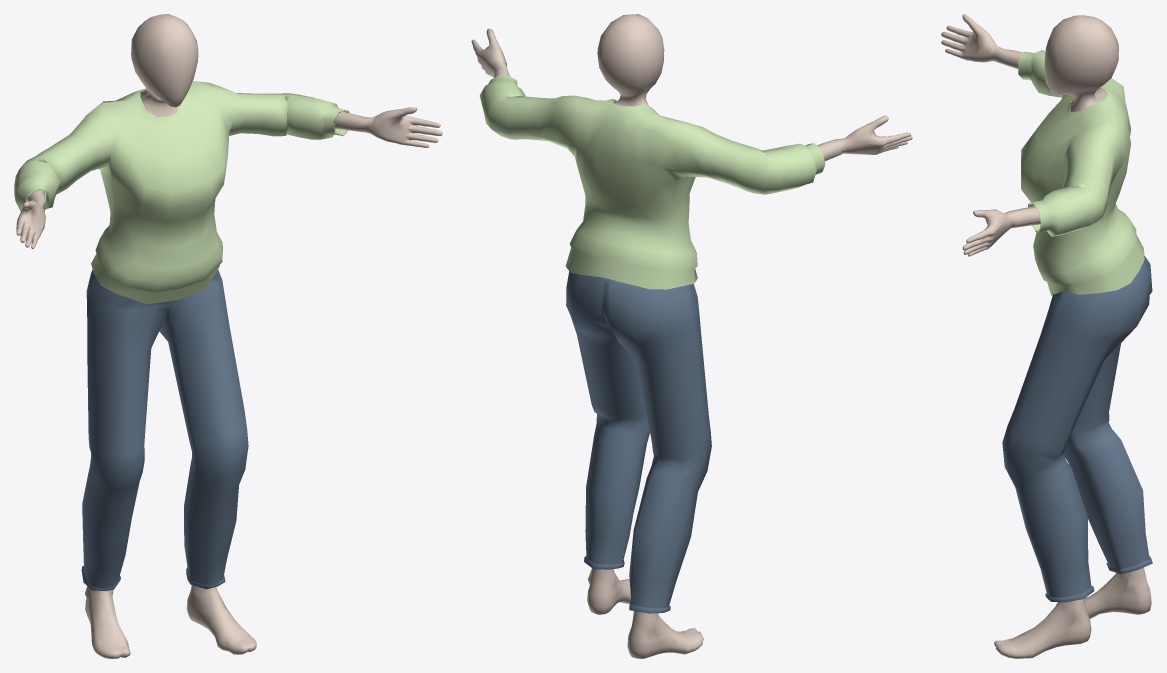
File: FemaleHug.fbx
3 views of the same model, side by side, from view 1: azimuth 30°, elevation 25°; view 2: azimuth 150°, elevation 25°; view 3: azimuth 270°, elevation 25° (orthographic).
Parts seen in each view (by area): view 1: Female_BasicControlRig1:BaseModel; view 2: Female_BasicControlRig1:BaseModel; view 3: Female_BasicControlRig1:BaseModel.
Boxes of the visible parts, x1=… form: Female_BasicControlRig1:BaseModel: x1=14, y1=14, x2=442, y2=658; Female_BasicControlRig1:BaseModel: x1=471, y1=14, x2=912, y2=658; Female_BasicControlRig1:BaseModel: x1=941, y1=14, x2=1152, y2=658.
Size of the model in its own units: 2.64 by 3.63 by 1.12.
